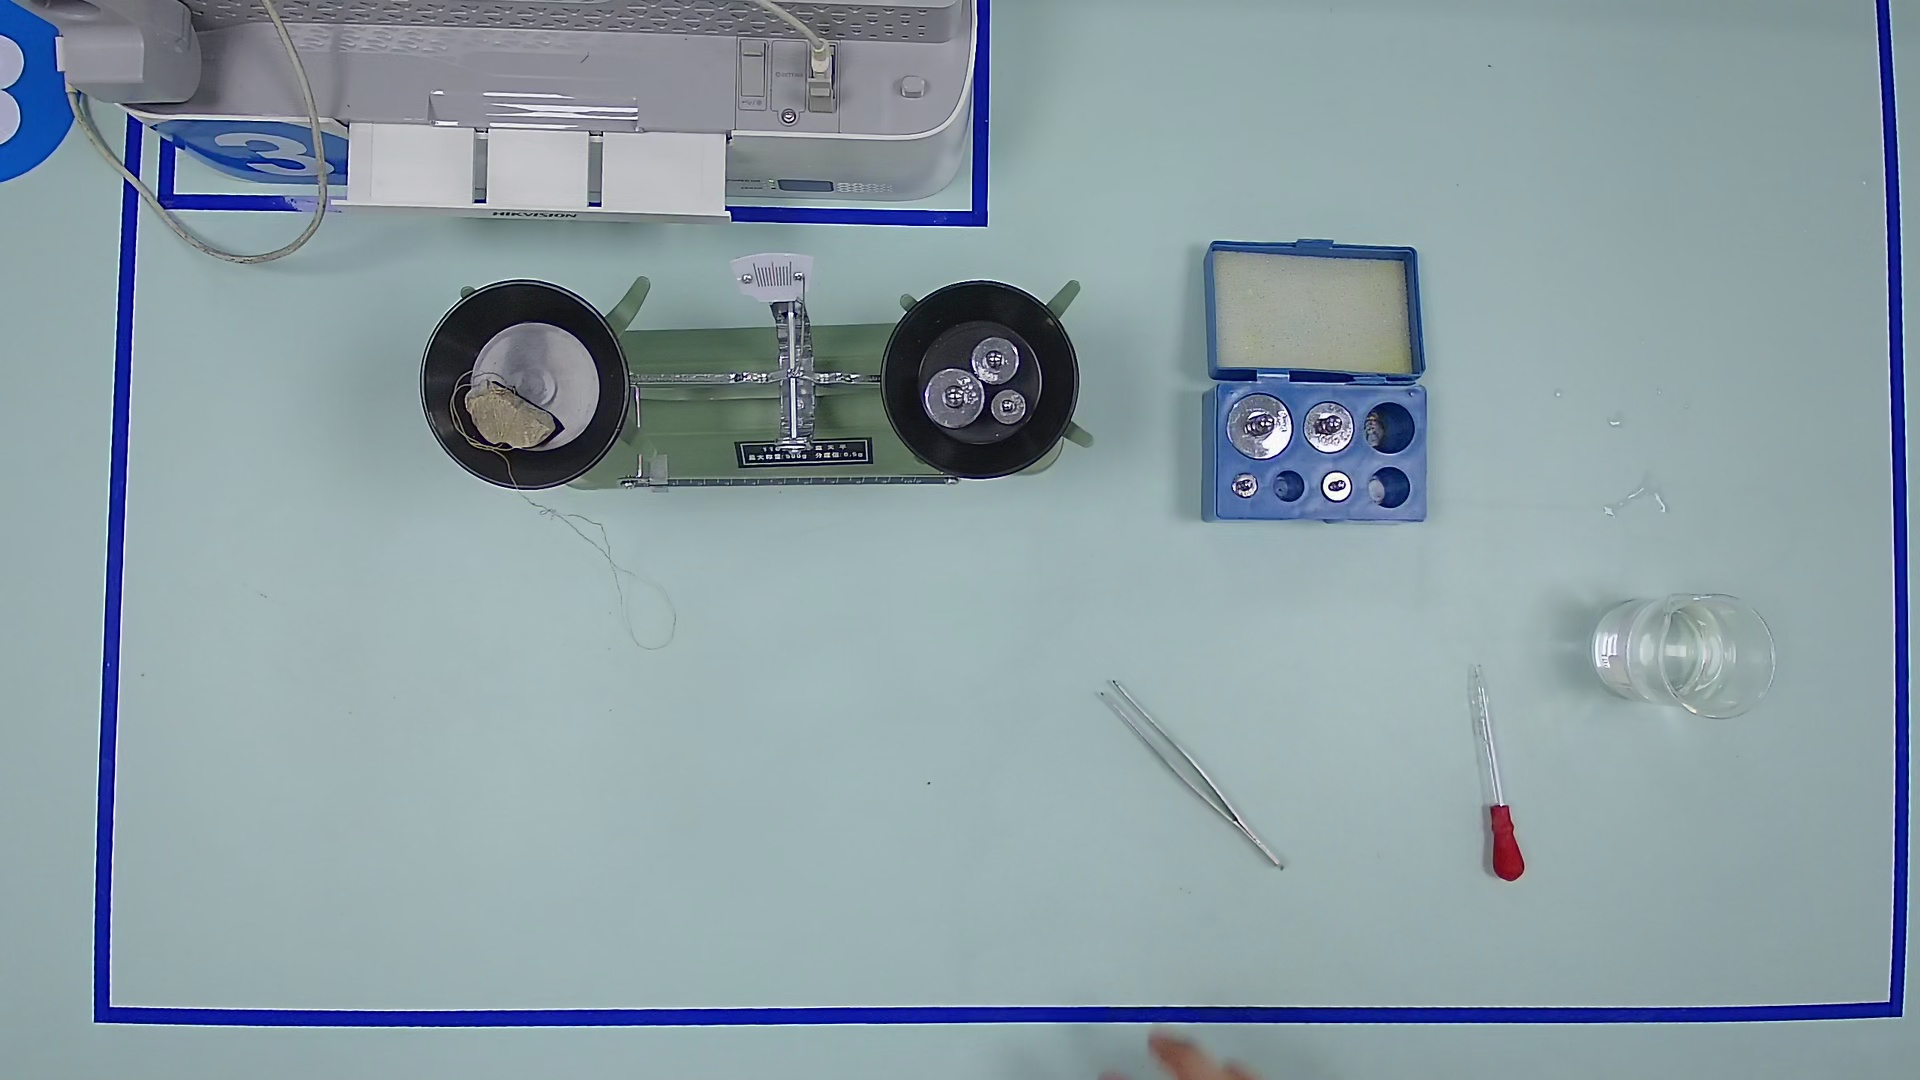bei: (1590, 574, 1785, 733)
diguan: (1436, 646, 1544, 895)
diguantou: (1476, 793, 1538, 887)
fama: (1222, 389, 1294, 462), (919, 364, 990, 434), (1302, 400, 1357, 454), (969, 334, 1022, 386), (989, 388, 1029, 429), (1320, 469, 1353, 502), (1230, 472, 1258, 501)
gan: (615, 444, 951, 518)
niezi: (1095, 650, 1308, 897)
pointer: (735, 249, 814, 301)
shi: (459, 368, 558, 456)
tuo: (396, 260, 654, 516), (860, 260, 1105, 505)
you: (641, 452, 675, 498)
